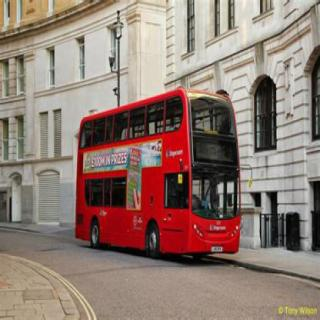Normal_vehicle: (70, 94, 258, 268)
